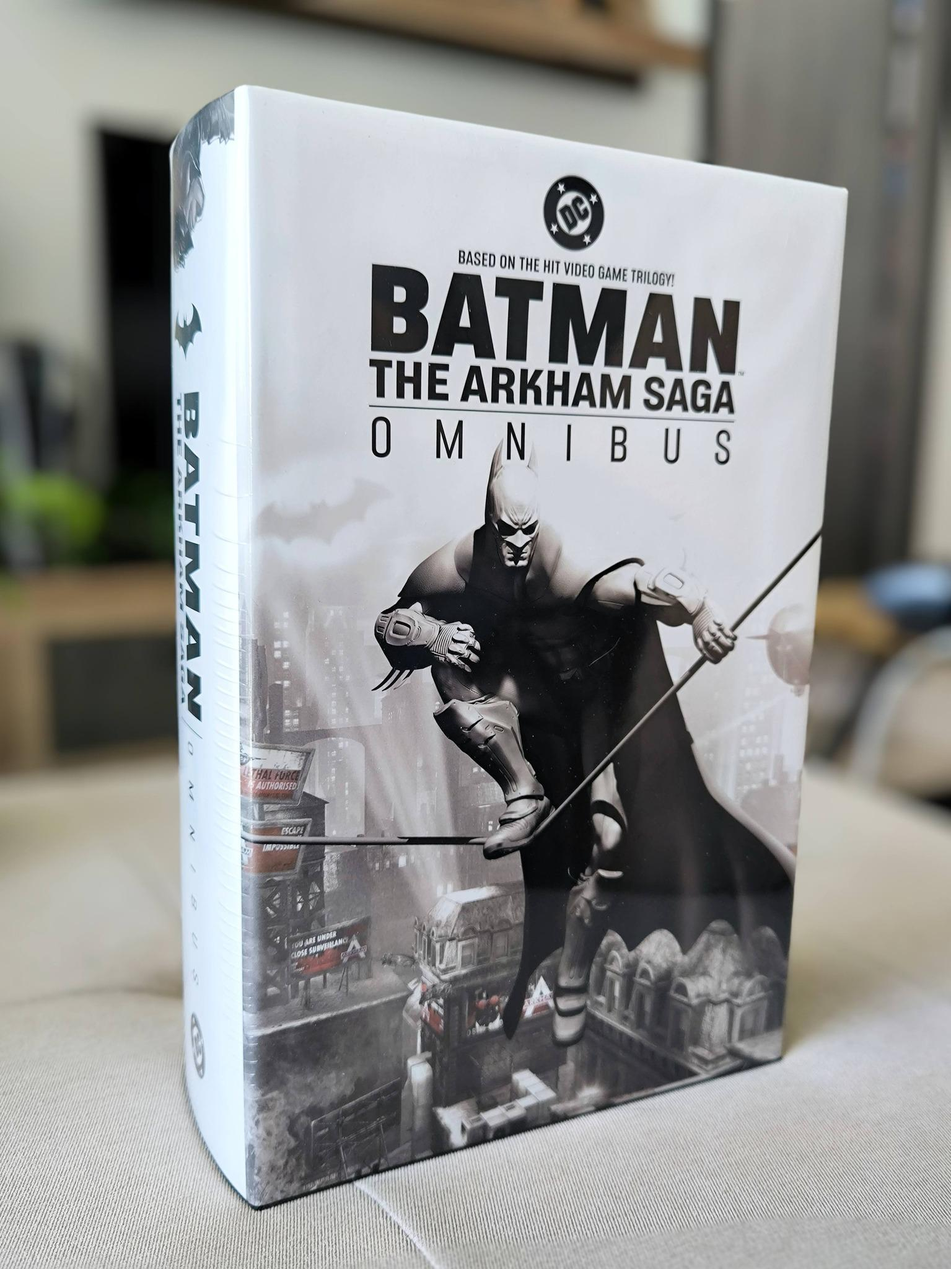comic: (250, 82, 854, 1206)
